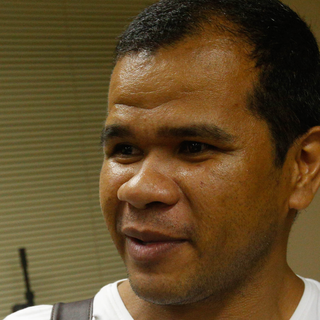eye: (171, 135, 227, 160), (107, 141, 148, 161)
